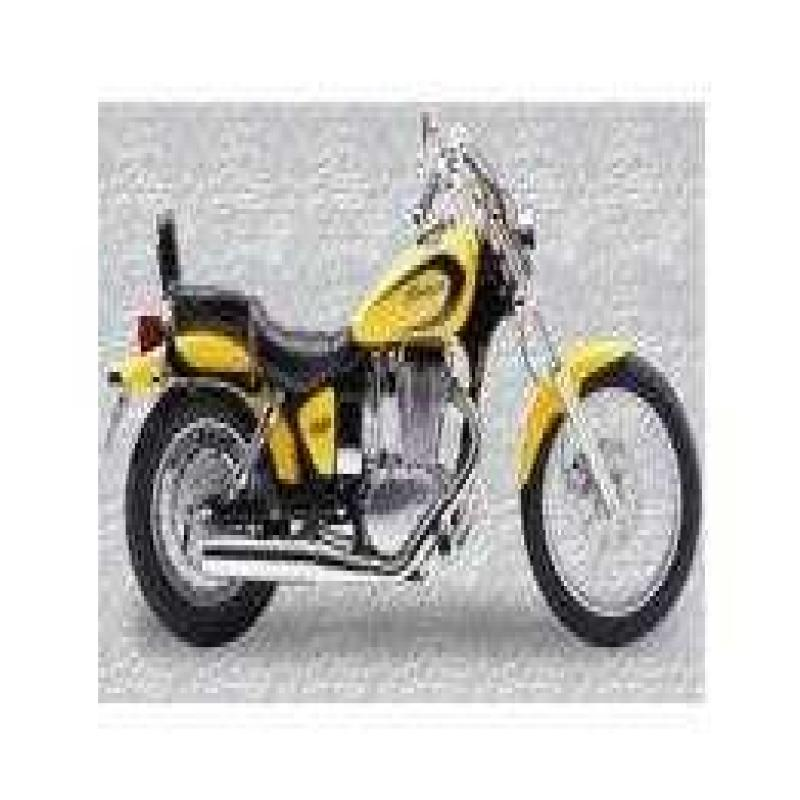bike: (105, 125, 710, 665)
